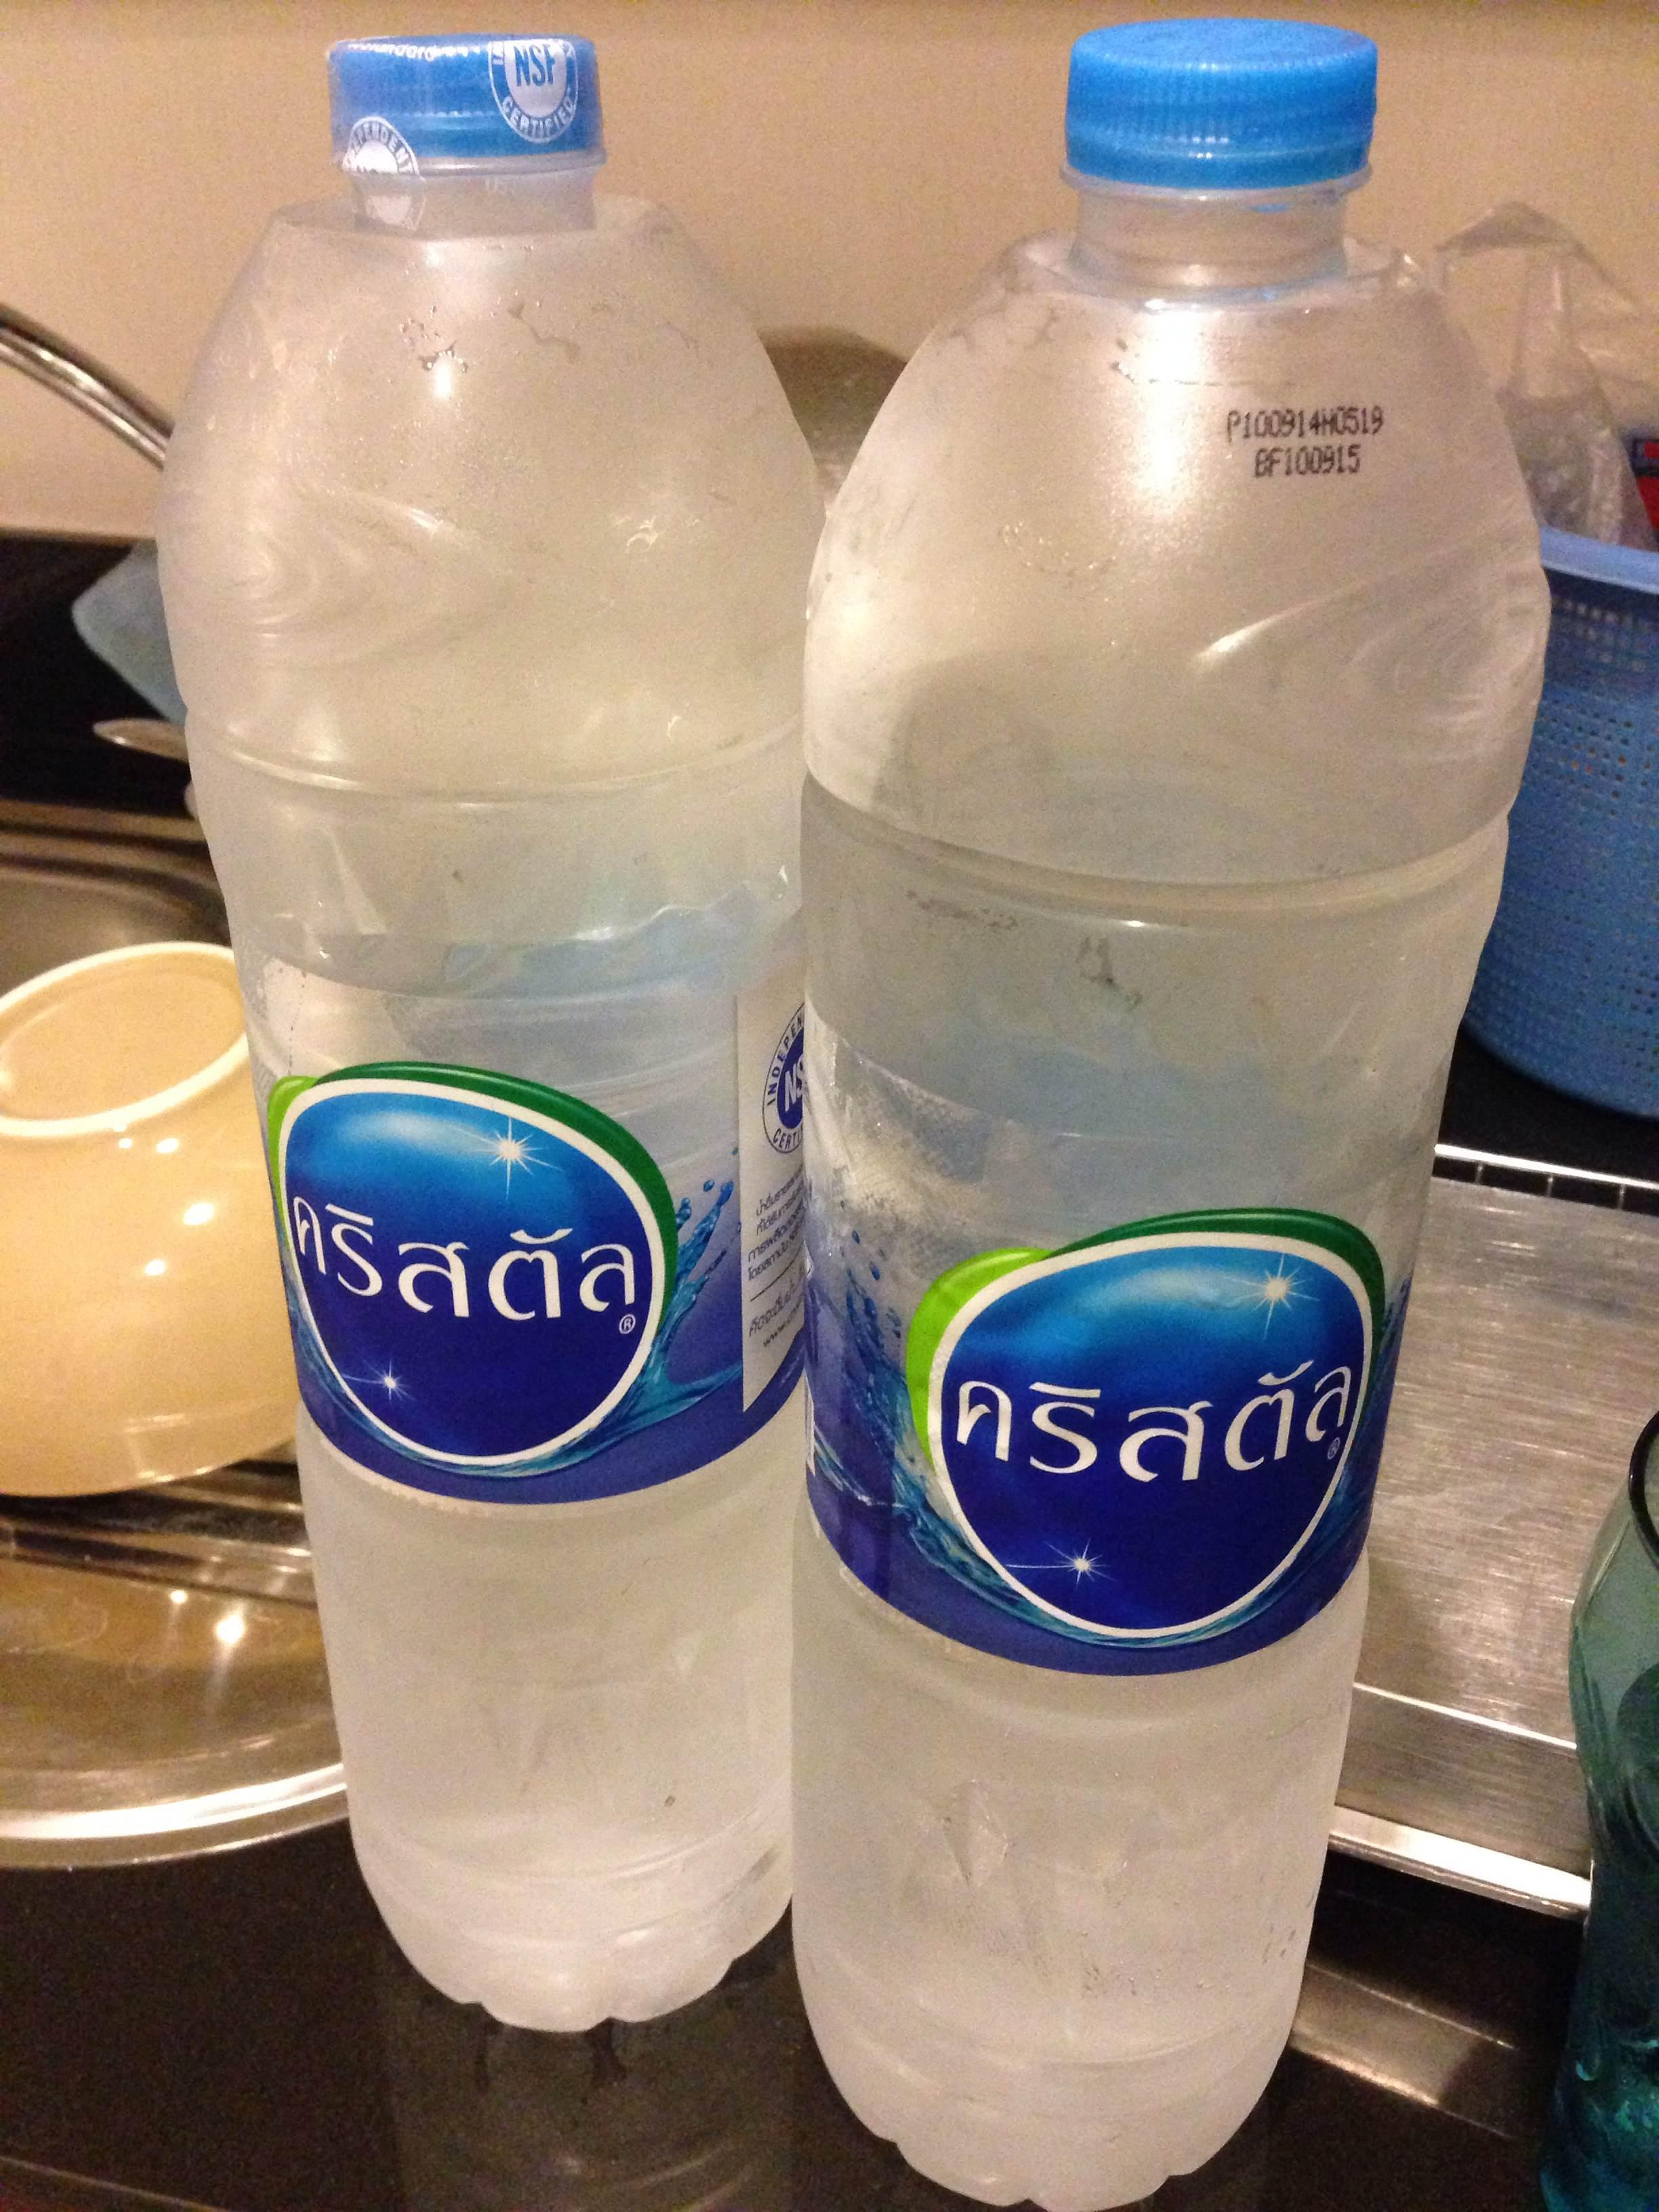plastic_bottle: (784, 16, 1556, 2195), (148, 10, 802, 2038)
